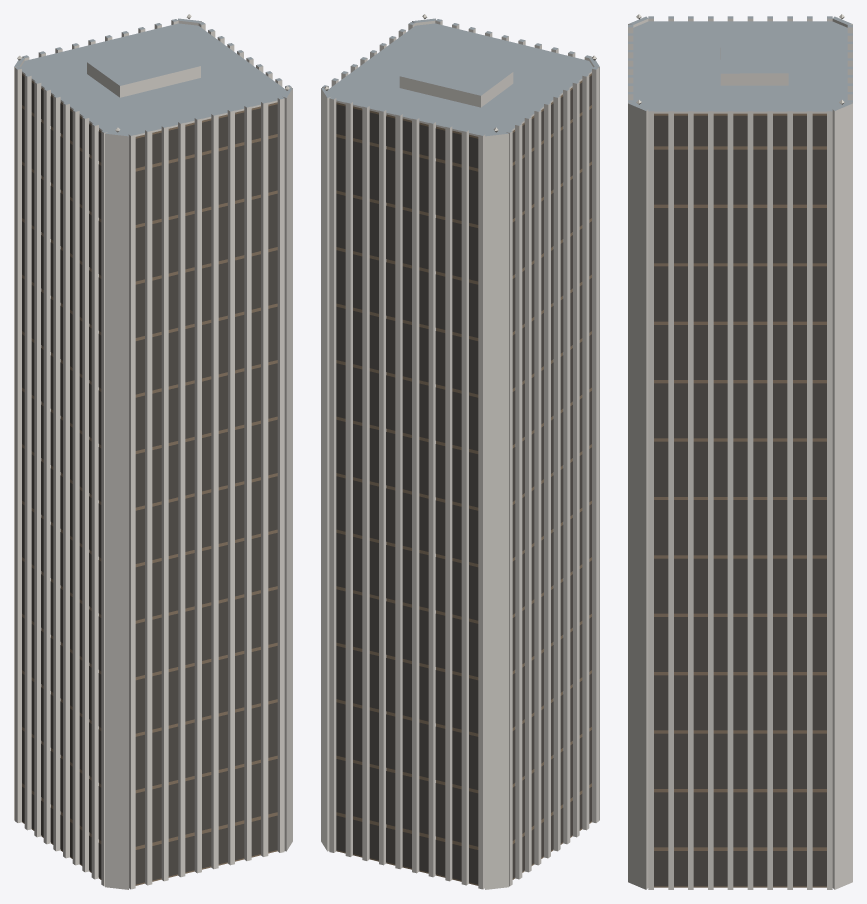
File: pdx-wells-fargo-center.glb
3 views of the same model, side by side, from view 1: azimuth 30°, elevation 25°; view 2: azimuth 150°, elevation 25°; view 3: azimuth 270°, elevation 25° (orthographic). The views are drawn at different scales.
Visible parts, largest first — view 1: Wells Fargo Center; view 2: Wells Fargo Center; view 3: Wells Fargo Center.
Boxes of the visible parts, box(x1,y1,x2,y2) form: Wells Fargo Center: box(14, 14, 292, 889); Wells Fargo Center: box(321, 14, 599, 889); Wells Fargo Center: box(628, 14, 852, 889).
Size of the model in its own units: 43.3 by 168 by 43.4.
